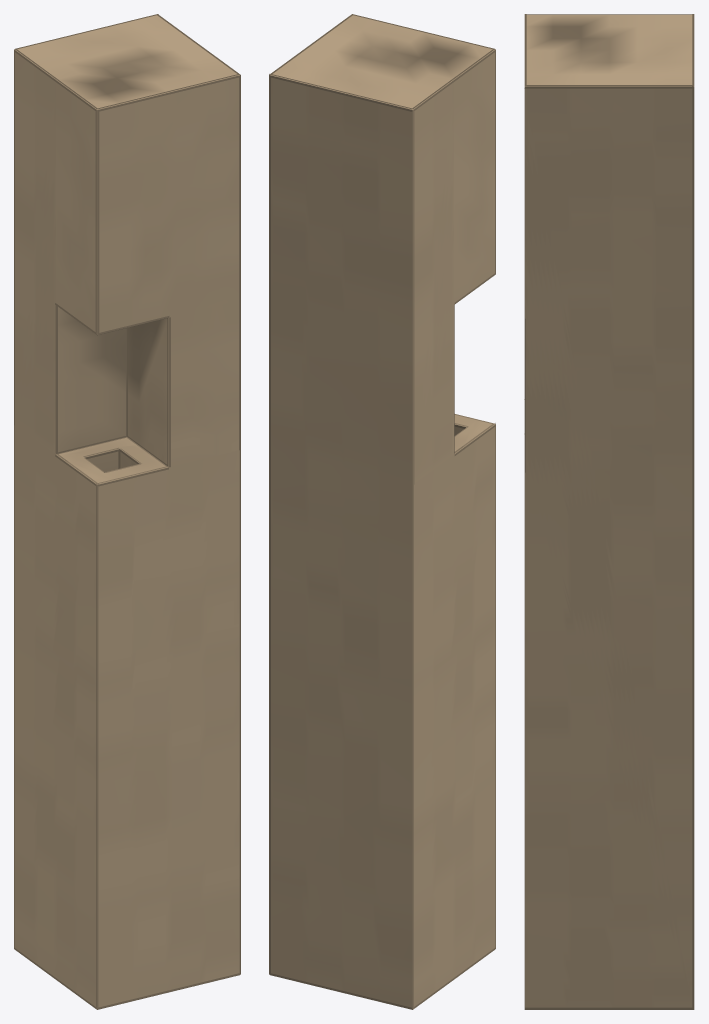
3 views of the same model, side by side, from view 1: azimuth 30°, elevation 25°; view 2: azimuth 150°, elevation 25°; view 3: azimuth 270°, elevation 25° (orthographic). The views are drawn at different scales.
Visible parts, largest first — view 1: part-a; view 2: part-a; view 3: part-a.
Boxes of the visible parts, bbox=[...] form: part-a: bbox=[14, 14, 240, 1009]; part-a: bbox=[269, 14, 495, 1009]; part-a: bbox=[524, 14, 694, 1009].
Bounding box in the file's own units: 0.1208 × 0.7211 × 0.1208.
